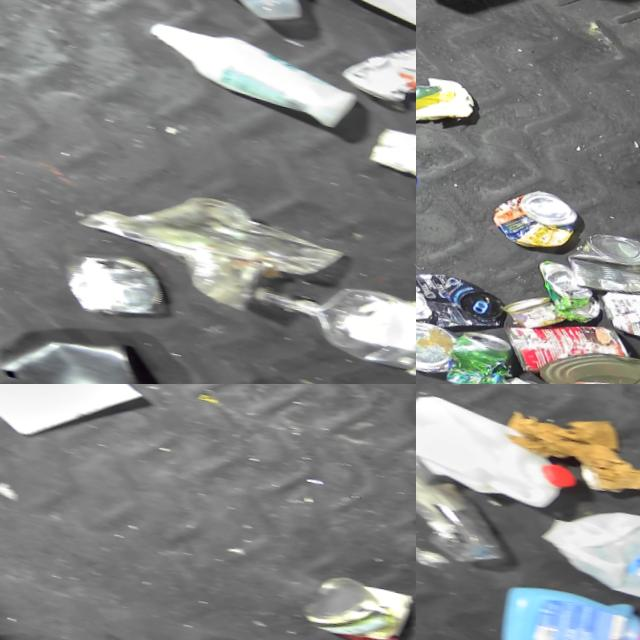can: (500, 295, 638, 384), (58, 235, 180, 328), (295, 558, 416, 640), (337, 10, 416, 115), (416, 254, 510, 338), (489, 174, 584, 251), (563, 216, 640, 303), (540, 328, 640, 384), (531, 251, 611, 319), (446, 318, 522, 384), (503, 280, 572, 330), (597, 266, 640, 342), (416, 303, 460, 374), (473, 360, 571, 384), (213, 370, 317, 384)
milk_jug: (416, 384, 589, 512), (537, 483, 640, 613)
non_white_jug: (489, 563, 640, 640)
